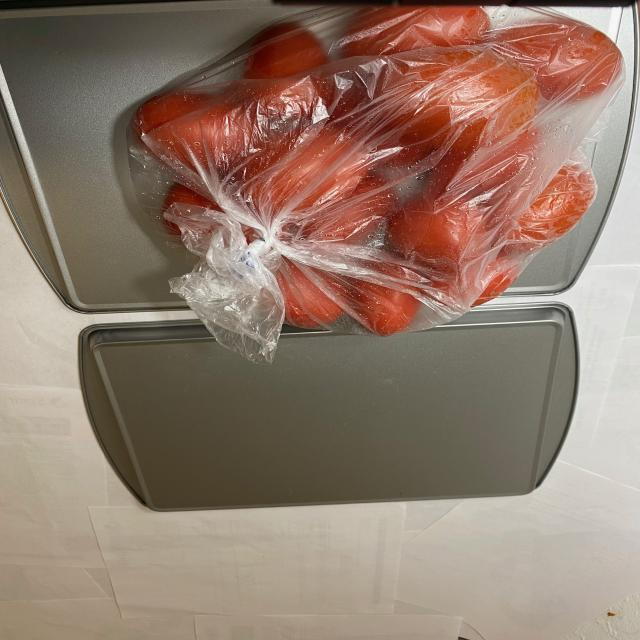tomato: (142, 24, 634, 329)
